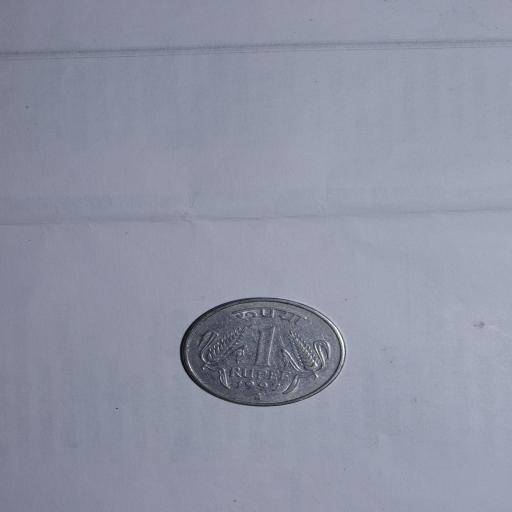rupee1: (175, 293, 347, 406)
